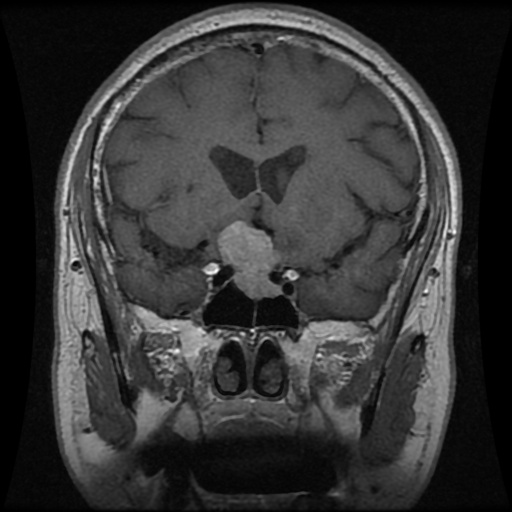pituitary: (220, 222, 277, 295)
